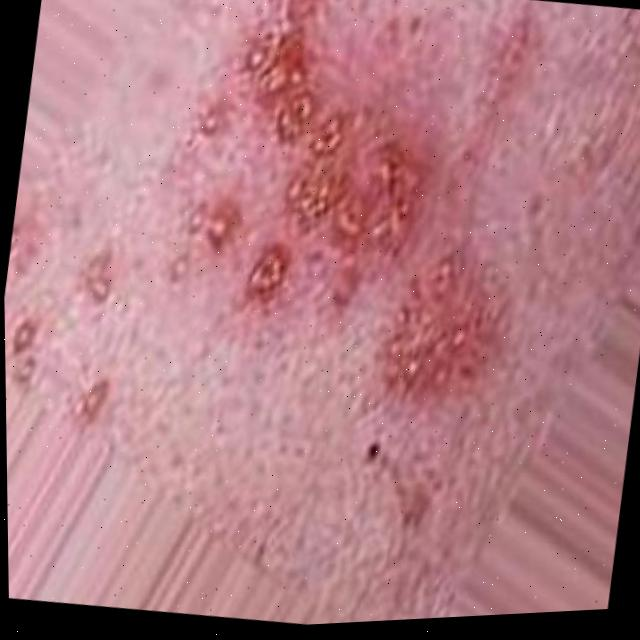Shingles: (146, 0, 533, 402)
